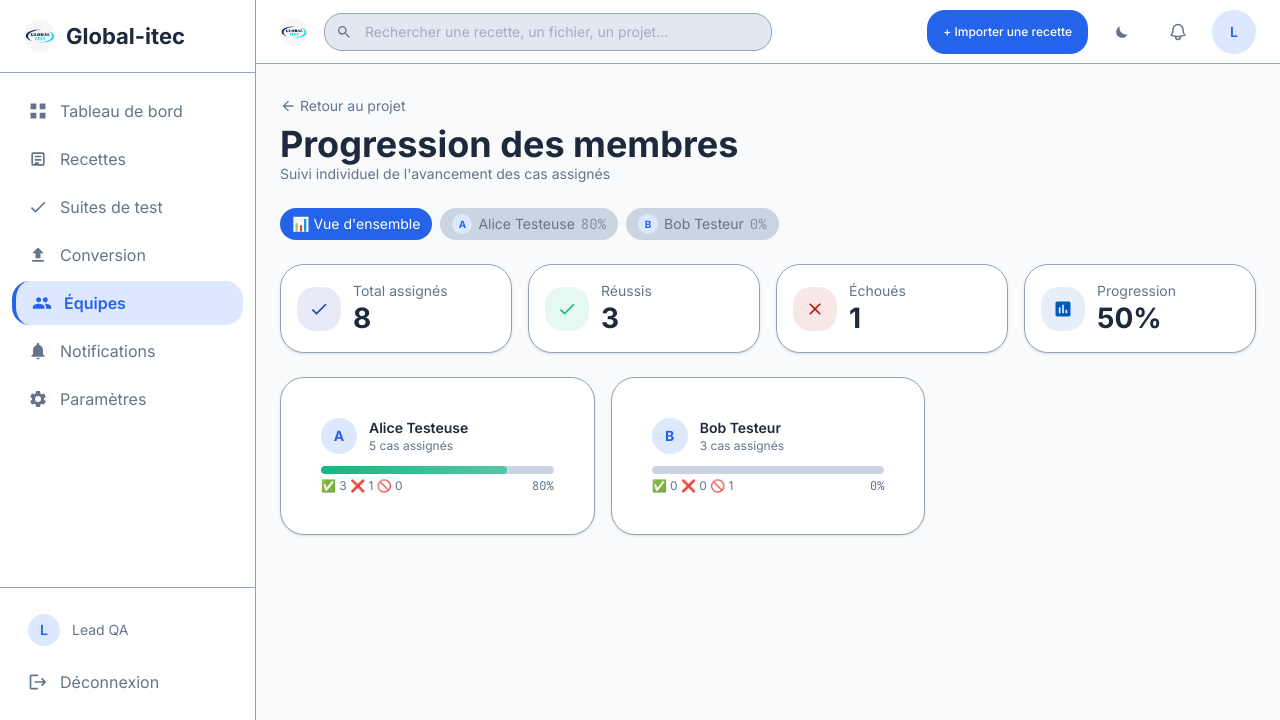
it: MemberProgressPage › shows UC count in member detail
The width and height of the screenshot is (1280, 720).
Step 1. Click the button "A Alice Testeuse 80%" → (529, 224), box [440,208,618,240]
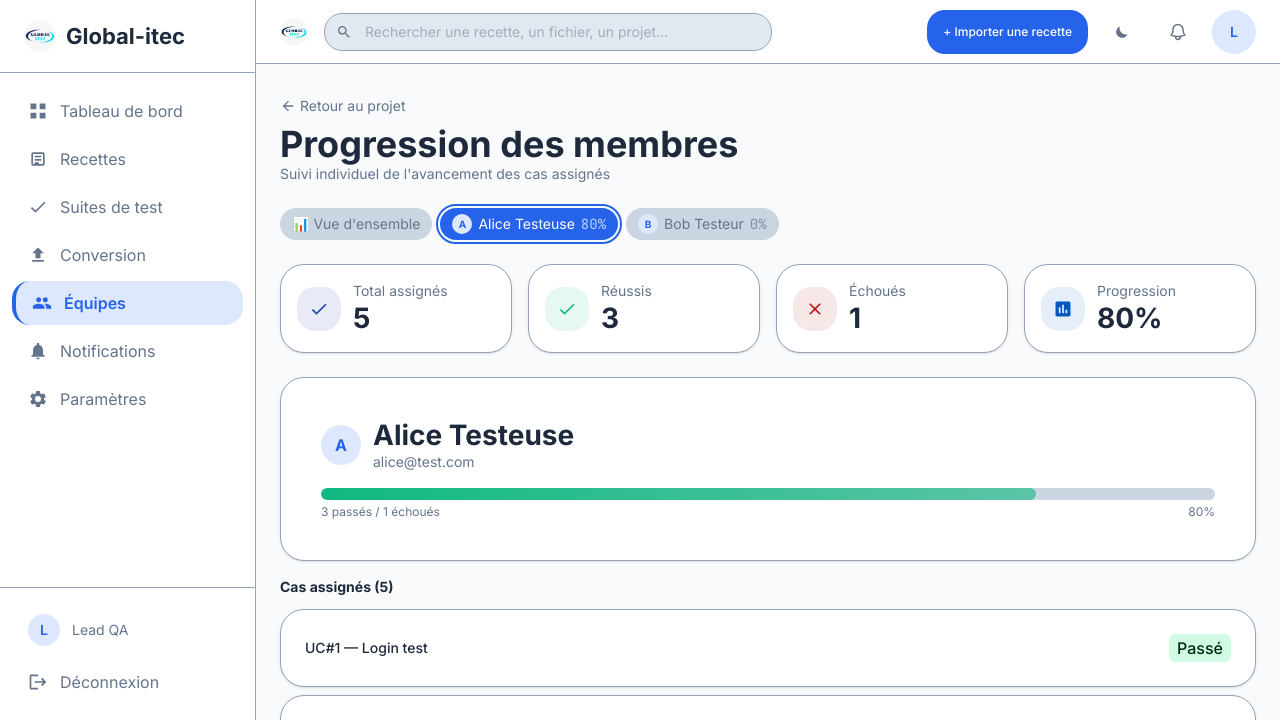
Result: the heading "Cas assignés (5)" is shown at [280,578,394,595]
